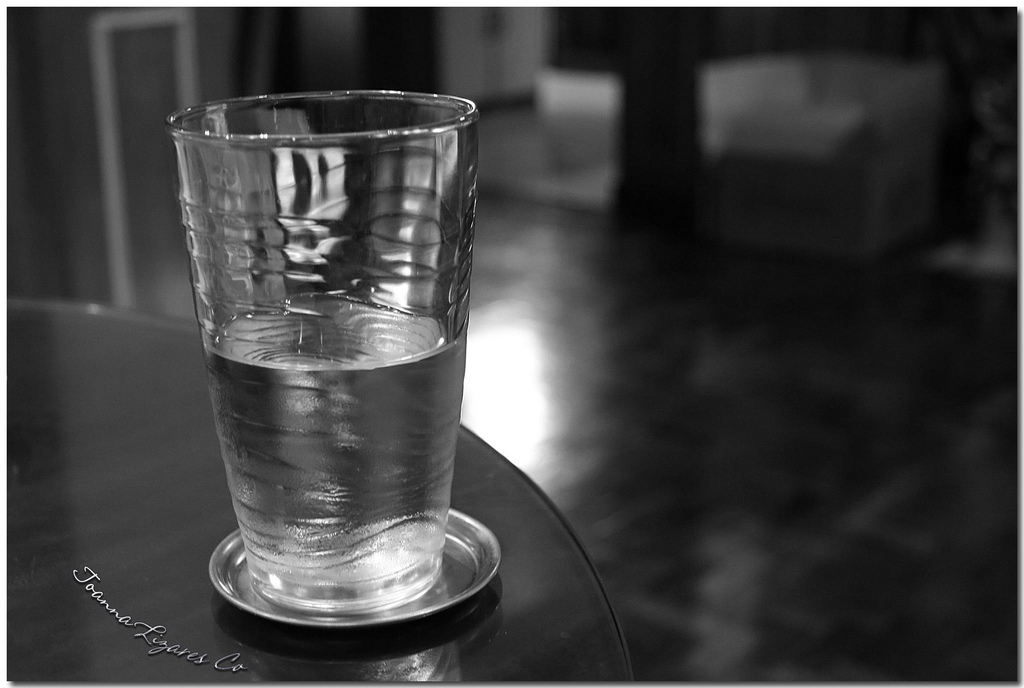glass of water: (168, 95, 470, 623)
